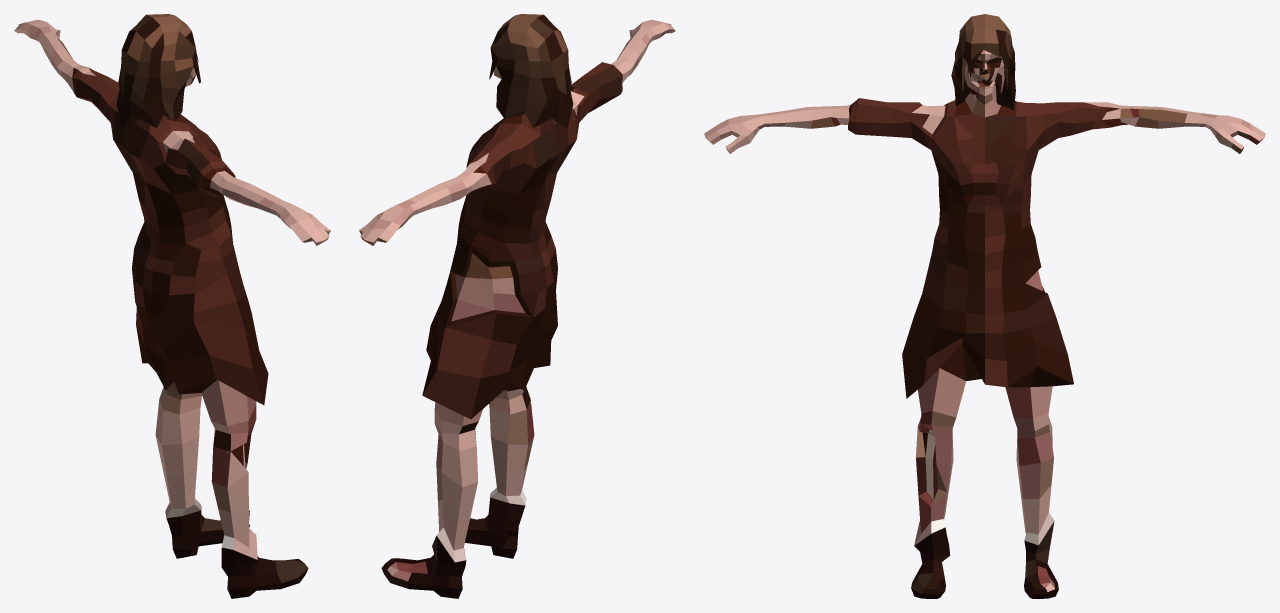
The model's file is polyart_anim_test.glb.
The picture shows the model from 3 angles, left to right: view 1: azimuth 30°, elevation 25°; view 2: azimuth 150°, elevation 25°; view 3: azimuth 270°, elevation 25°; orthographic projection. The views are drawn at different scales.
Parts seen in each view (by area): view 1: Polyart_Zombie_A; view 2: Polyart_Zombie_A; view 3: Polyart_Zombie_A.
Boxes of the visible parts, x1=… form: Polyart_Zombie_A: x1=14, y1=14, x2=330, y2=598; Polyart_Zombie_A: x1=359, y1=14, x2=675, y2=598; Polyart_Zombie_A: x1=704, y1=14, x2=1265, y2=598.
Size of the model in its own units: 53.85 by 194 by 182.
1 material, 1 textured.
